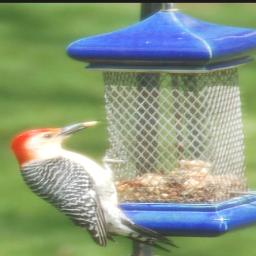Woodpecker: (10, 115, 189, 256)
